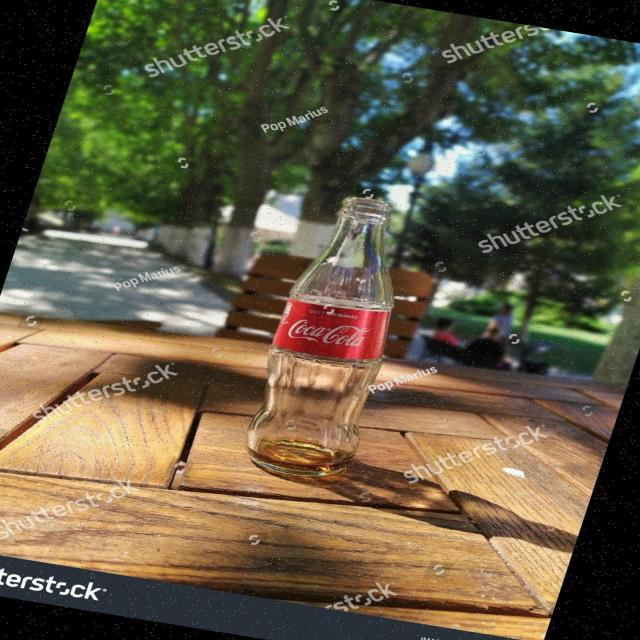coca-cola: (229, 183, 444, 492)
